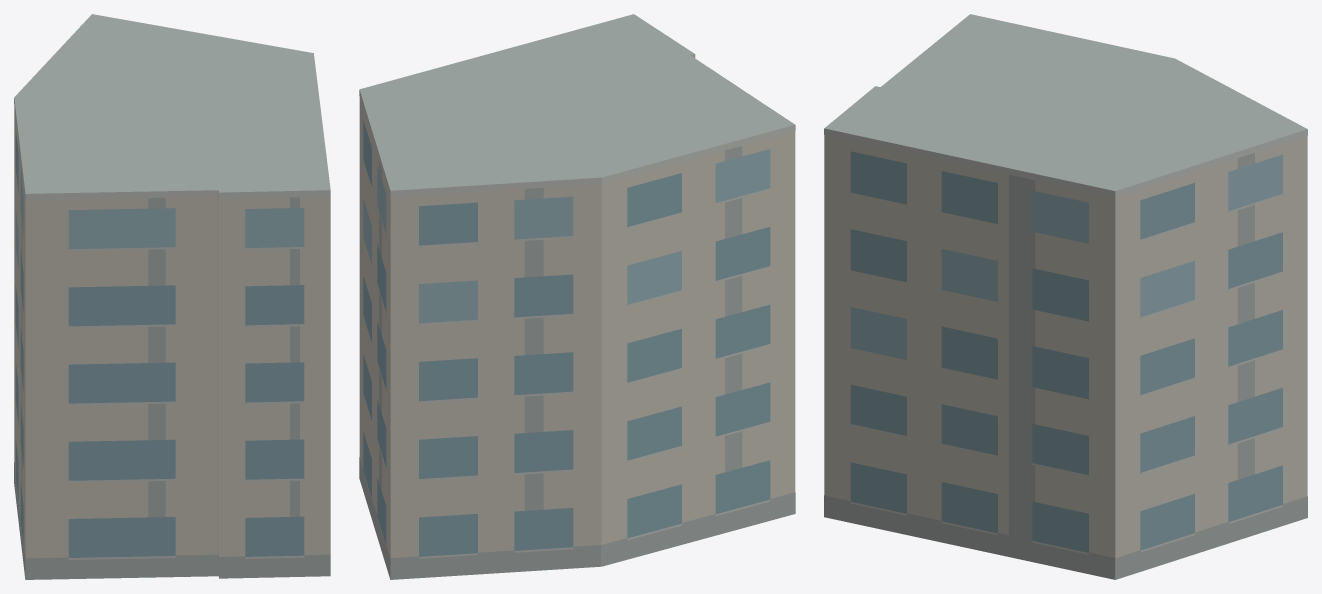
File: survey-upis-32848150.glb
3 views of the same model, side by side, from view 1: azimuth 30°, elevation 25°; view 2: azimuth 150°, elevation 25°; view 3: azimuth 270°, elevation 25° (orthographic).
Visible parts, largest first — view 1: survey-upis-32848150.tmp; view 2: survey-upis-32848150.tmp; view 3: survey-upis-32848150.tmp.
Boxes of the visible parts, x1=… form: survey-upis-32848150.tmp: x1=14, y1=14, x2=330, y2=579; survey-upis-32848150.tmp: x1=359, y1=14, x2=795, y2=579; survey-upis-32848150.tmp: x1=824, y1=14, x2=1307, y2=579.
Bounding box in the file's own units: 14.28 × 14.6 × 16.47.
